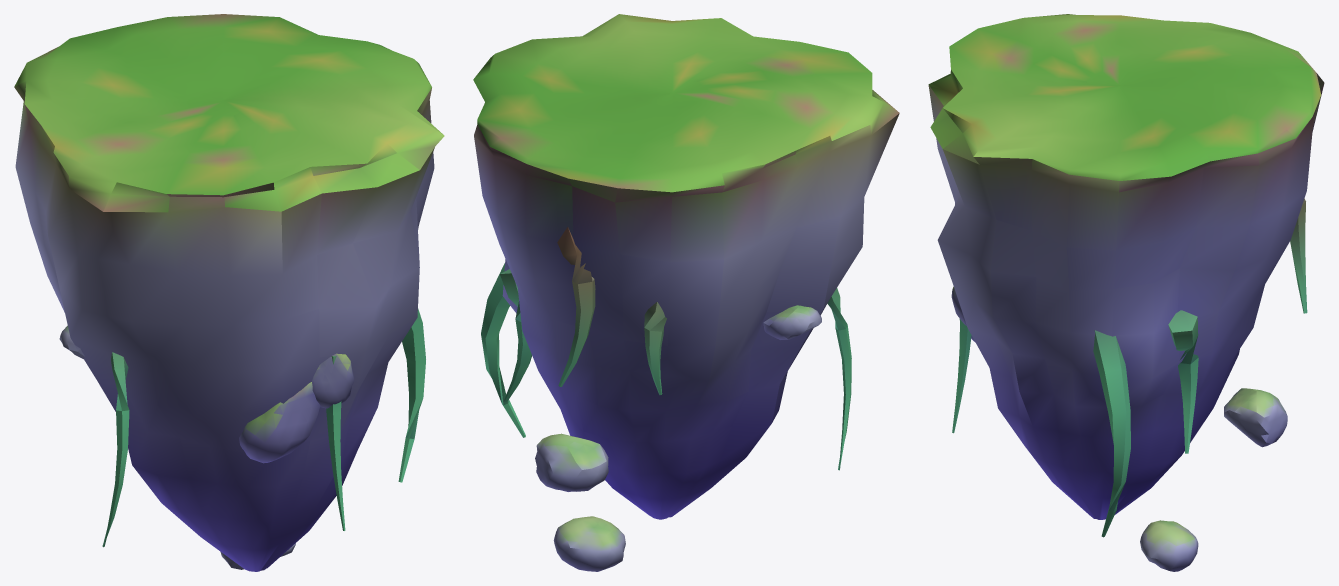
The model's file is verdant_island_08.glb.
3 renders of one model, left to right at view 1: azimuth 30°, elevation 25°; view 2: azimuth 150°, elevation 25°; view 3: azimuth 270°, elevation 25°, orthographic. The views are drawn at different scales.
Visible parts, largest first — view 1: verdant_island_08; view 2: verdant_island_08, Floater_2, Floater_0, Floater_1; view 3: verdant_island_08, Floater_2, Floater_0.
Boxes of the visible parts, bbox=[...] form: verdant_island_08: bbox=[14, 14, 444, 571]; verdant_island_08: bbox=[473, 14, 899, 519]; Floater_2: bbox=[535, 433, 608, 491]; Floater_0: bbox=[553, 516, 625, 571]; Floater_1: bbox=[763, 305, 821, 339]; verdant_island_08: bbox=[928, 14, 1324, 537]; Floater_2: bbox=[1224, 388, 1287, 447]; Floater_0: bbox=[1140, 520, 1198, 571].
Size of the model in its own units: 8.57 by 10.7 by 8.41.
